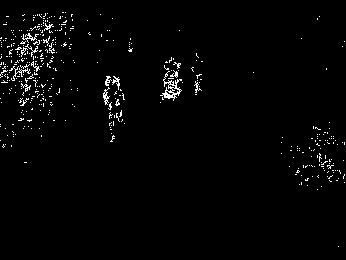person: (103, 74, 129, 143), (191, 50, 206, 97)
